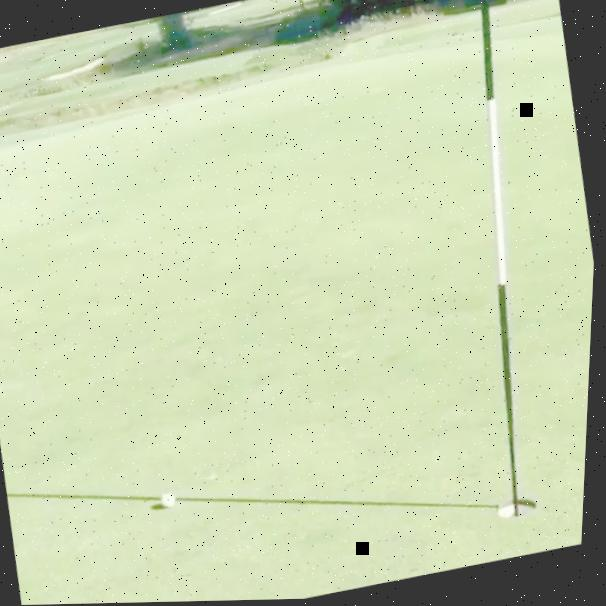GolfBall: (163, 492, 182, 513)
